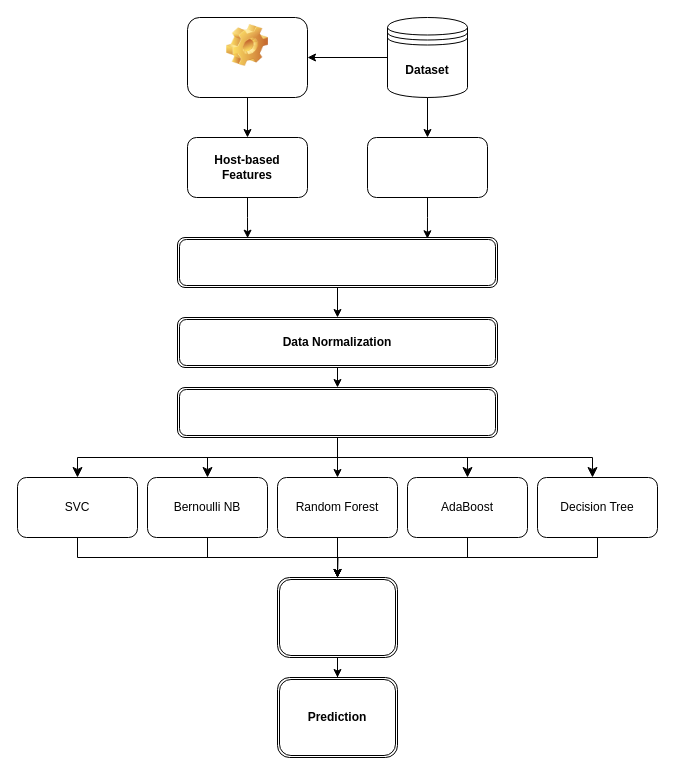
This 675x775 diagram has some shape labels left out. The centre of each missing label's shape, as x and y in pixels:
Data Cleaning: (337,262)
Lexical Features: (427,167)
Machine Learning Selection: (337,412)
Model Selection: (337,617)
urlscan.io: (247,57)
